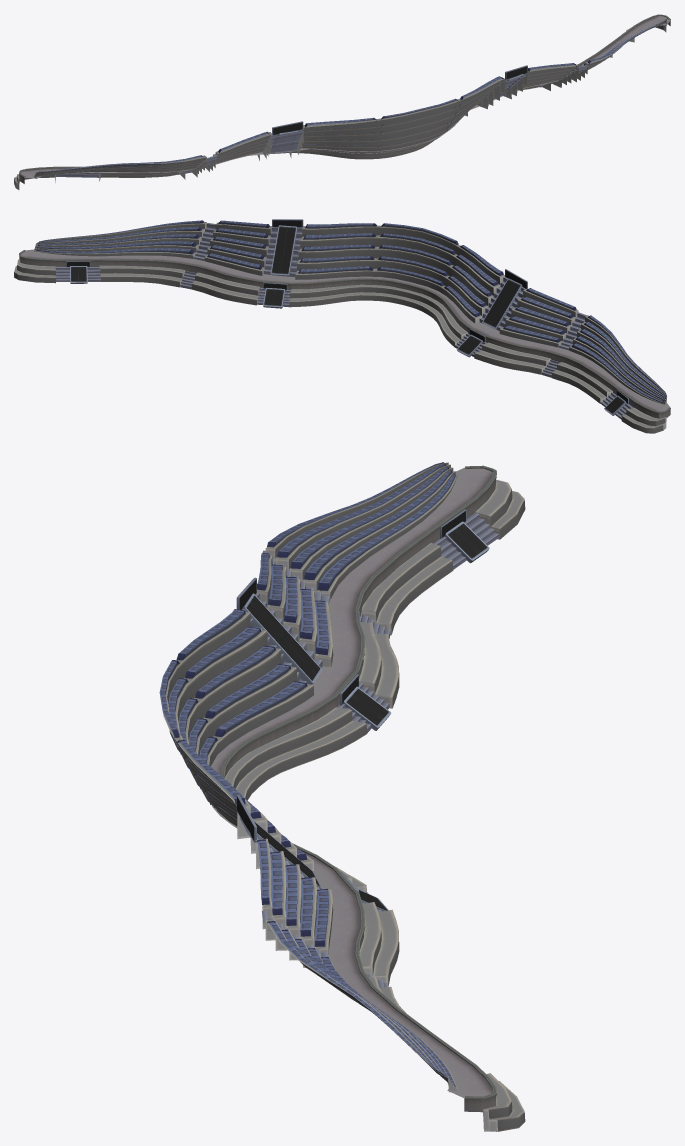
File: pref_sm_beach_winter_techgrandstand01_lv3.fbx
3 views of the same model, one above another, from view 1: azimuth 30°, elevation 25°; view 2: azimuth 150°, elevation 25°; view 3: azimuth 270°, elevation 25° (orthographic). The views are drawn at different scales.
Visible parts, largest first — view 1: sm_beach_winter_techgrandstand01_b_lv3, sm_beach_winter_techgrandstand01_a_lv3, sm_beach_winter_techgrandstand01_c_lv3; view 2: sm_beach_winter_techgrandstand01_c_lv3, sm_beach_winter_techgrandstand01_b_lv3, sm_beach_winter_techgrandstand01_a_lv3; view 3: sm_beach_winter_techgrandstand01_a_lv3, sm_beach_winter_techgrandstand01_b_lv3, sm_beach_winter_techgrandstand01_c_lv3.
Boxes of the visible parts, x1,y1,x2,y2 form: sm_beach_winter_techgrandstand01_b_lv3: (289, 76, 505, 159); sm_beach_winter_techgrandstand01_a_lv3: (14, 121, 303, 189); sm_beach_winter_techgrandstand01_c_lv3: (488, 14, 670, 105); sm_beach_winter_techgrandstand01_c_lv3: (14, 219, 303, 308); sm_beach_winter_techgrandstand01_b_lv3: (289, 223, 504, 347); sm_beach_winter_techgrandstand01_a_lv3: (455, 269, 670, 433); sm_beach_winter_techgrandstand01_a_lv3: (236, 462, 525, 733); sm_beach_winter_techgrandstand01_b_lv3: (159, 609, 366, 891); sm_beach_winter_techgrandstand01_c_lv3: (236, 795, 525, 1131).
Size of the model in its own units: 125 by 11.44 by 30.47.
